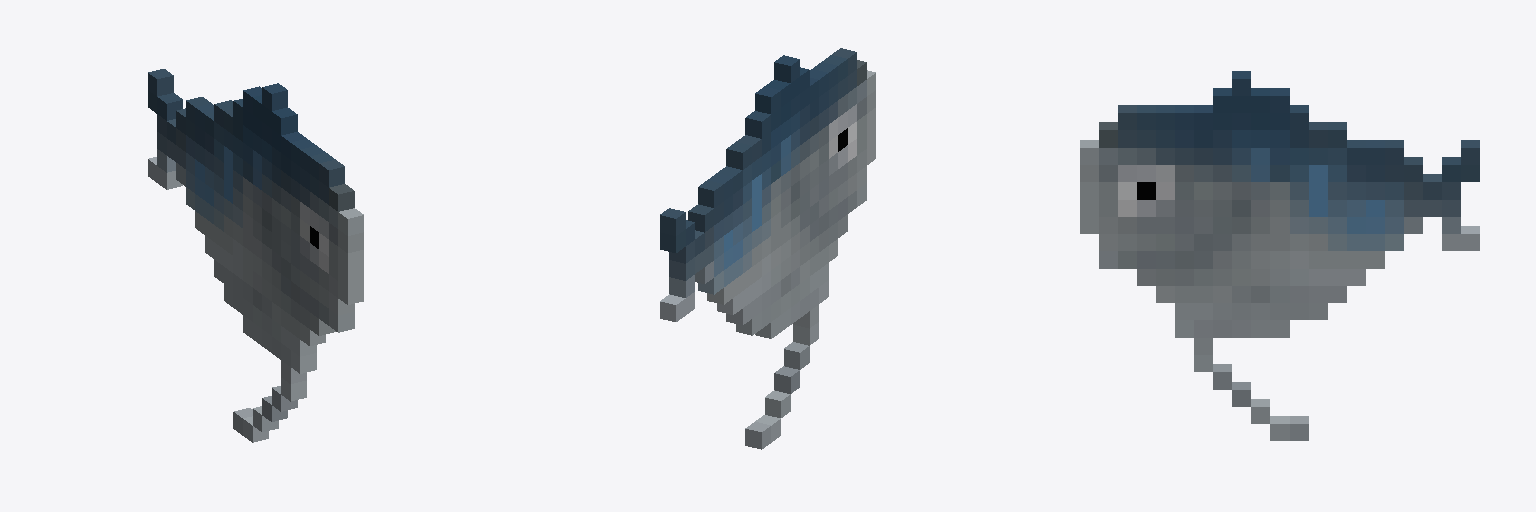
The picture shows the model from 3 angles: view 1: azimuth 30°, elevation 25°; view 2: azimuth 150°, elevation 25°; view 3: azimuth 270°, elevation 25°; orthographic projection.
Visible parts, largest first — view 1: object 1; view 2: object 1; view 3: object 1.
Part boxes in pixels (left/top/right/bottom): object 1: left=148, top=69, right=363, bottom=442; object 1: left=660, top=48, right=875, bottom=449; object 1: left=1080, top=71, right=1479, bottom=440.
Size of the model in its own units: 0.1 by 2.1 by 2.1.
Materials: 1 (1 with a texture image).